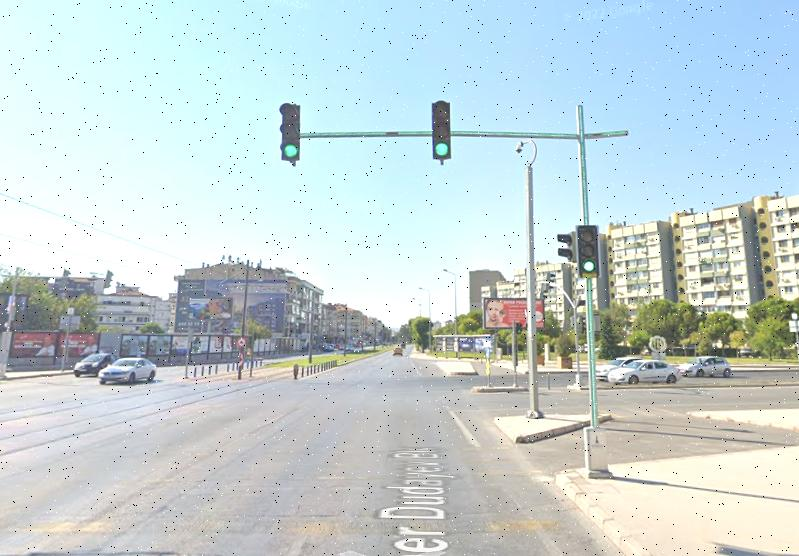greenlight: (280, 102, 299, 160), (431, 100, 450, 157), (579, 225, 598, 271)
